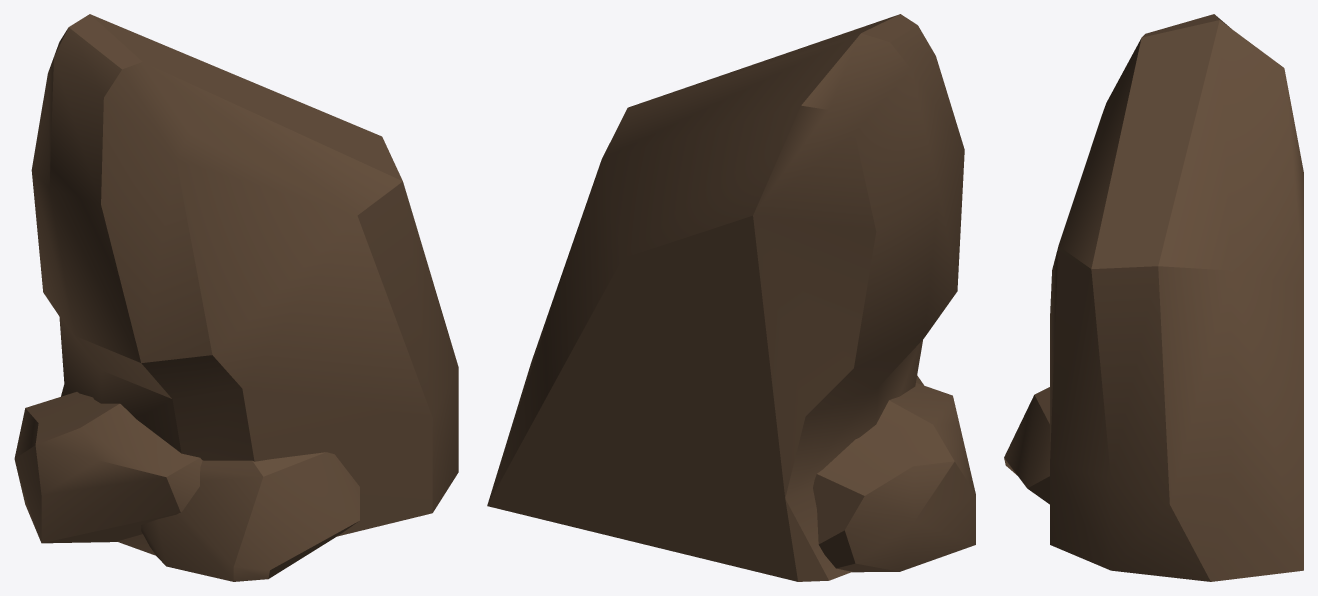
File: Obstacle1.fbx
The picture shows the model from 3 angles, left to right: view 1: azimuth 30°, elevation 25°; view 2: azimuth 150°, elevation 25°; view 3: azimuth 270°, elevation 25°; orthographic projection. The views are drawn at different scales.
Visible parts, largest first — view 1: Obstacle1_LOD0; view 2: Obstacle1_LOD0; view 3: Obstacle1_LOD0.
Boxes of the visible parts, left/top/right/bottom form: Obstacle1_LOD0: left=14, top=14, right=458, bottom=581; Obstacle1_LOD0: left=487, top=14, right=975, bottom=581; Obstacle1_LOD0: left=1004, top=14, right=1303, bottom=581.
Size of what is drawn, in the model's own units: 1 by 1.14 by 0.7318.
